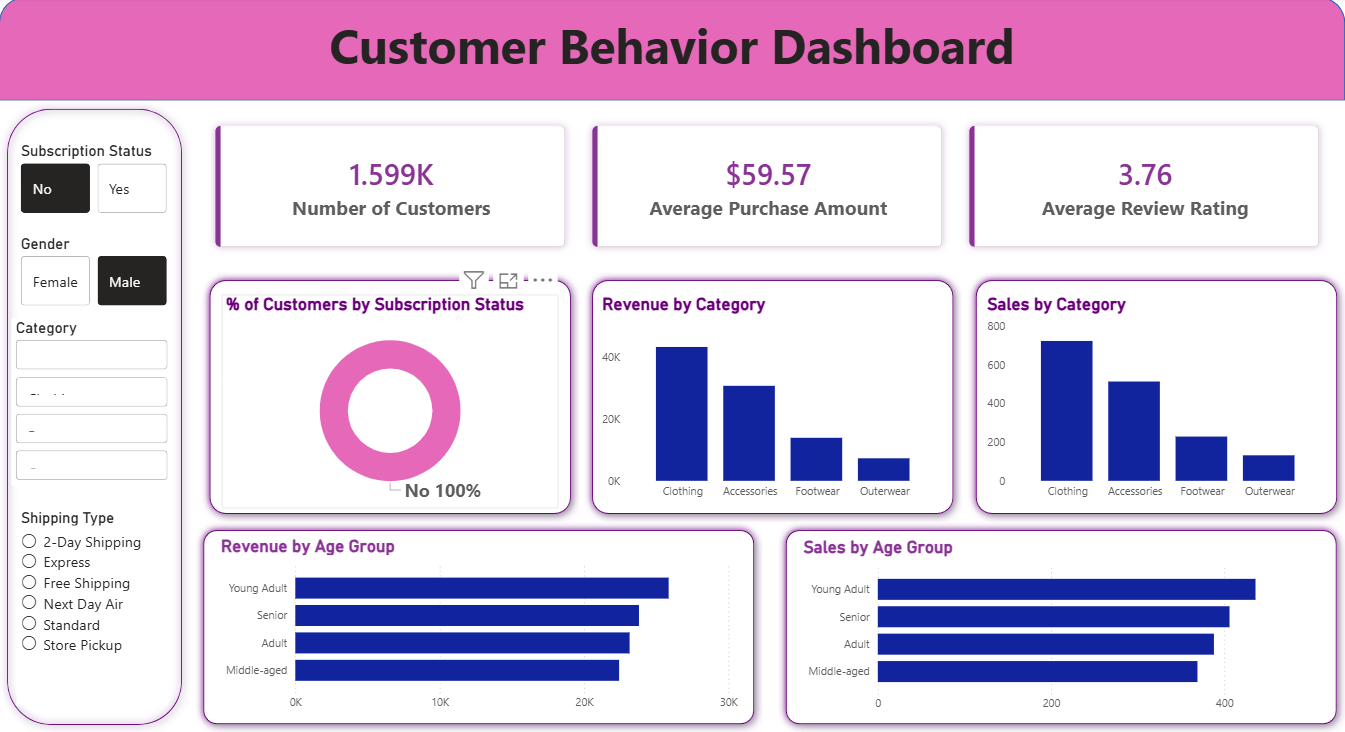

The dashboard page shown, as its layout file describes it:
{"tool":"powerbi","page":{"name":"Page 1","canvas":[1500,820],"ordinal":0},"visuals":[{"type":"cardVisual","fields":{"Data":["public customer.Number of Customers","public customer.Average Purchase Amount","public customer.Average Review Rating"]},"box":[212.9,115.3,1286.5,191.6],"z":2000},{"type":"shape","box":[218.3,585.6,631.7,234.2],"z":2500,"group":"g1"},{"type":"shape","box":[0,0,1499.9,115.6],"z":3000},{"type":"textbox","box":[0,12.4,1499.4,102.9],"z":4000},{"type":"shape","box":[225.4,307,420.5,278.6],"z":5000},{"type":"donutChart","title":"% of Customers by Subscription Status","fields":{"Category":["public customer.subscription_status"],"Y":["CountNonNull(public customer.customer_id)"]},"box":[248.4,331.8,376.2,237.8],"z":6000},{"type":"shape","box":[1078.9,307,420.5,278.6],"z":7000},{"type":"shape","box":[652.1,307,420.5,278.6],"z":8000},{"type":"clusteredColumnChart","title":"Revenue by Category","fields":{"Y":["Sum(public customer.purchase_amount)"],"Category":["public customer.category"]},"box":[667.2,331.8,385.1,237.8],"z":9000},{"type":"clusteredColumnChart","title":"Sales by Category","fields":{"Y":["CountNonNull(public customer.customer_id)"],"Category":["public customer.category"]},"box":[1096.6,331.8,385.1,237.8],"z":10000},{"type":"shape","box":[0,115.3,212.9,704.5],"z":11000},{"type":"advancedSlicerVisual","fields":{"Values":["public customer.subscription_status"]},"box":[19.5,161.5,173.9,85.2],"z":12000},{"type":"advancedSlicerVisual","fields":{"Values":["public customer.gender"]},"box":[19.5,264.4,173.9,85.2],"z":13000},{"type":"advancedSlicerVisual","fields":{"Values":["public customer.category"]},"box":[15.3,352.3,178.3,232.6],"z":14000},{"type":"listSlicer","fields":{"Values":["public customer.shipping_type"]},"box":[19.5,601.6,168.5,217.3],"z":15000},{"type":"shape","box":[867.7,585.6,631.7,234.2],"z":16000},{"type":"clusteredBarChart","title":"Sales by Age Group","fields":{"Y":["CountNonNull(public customer.customer_id)"],"Category":["public customer.age_group"]},"box":[890.8,601.5,585.6,204.1],"z":17000},{"type":"clusteredBarChart","title":"Revenue by Age Group","fields":{"Y":["Sum(public customer.purchase_amount)"],"Category":["public customer.age_group"]},"box":[241.4,601.6,585.6,204.1],"z":17500,"group":"g1"},{"type":"group","id":"g1","title":"Group 1","box":[218.3,585.6,631.7,234.2],"z":17501}]}

Visuals, with their boxes in screenshot pixels (x1, y1, x2, y2), scaled from the page's 1500x820 canvas onto the 1345x732 screenshot:
cardVisual - public customer.Number of Customers x public customer.Average Purchase Amount: pyautogui.locateOnScreen(191, 103, 1344, 274)
shape: pyautogui.locateOnScreen(196, 523, 762, 731)
shape: pyautogui.locateOnScreen(0, 0, 1344, 103)
textbox: pyautogui.locateOnScreen(0, 11, 1344, 103)
shape: pyautogui.locateOnScreen(202, 274, 579, 523)
"% of Customers by Subscription Status" donutChart: pyautogui.locateOnScreen(223, 296, 560, 508)
shape: pyautogui.locateOnScreen(967, 274, 1344, 523)
shape: pyautogui.locateOnScreen(585, 274, 962, 523)
"Revenue by Category" clusteredColumnChart: pyautogui.locateOnScreen(598, 296, 944, 508)
"Sales by Category" clusteredColumnChart: pyautogui.locateOnScreen(983, 296, 1329, 508)
shape: pyautogui.locateOnScreen(0, 103, 191, 731)
advancedSlicerVisual - public customer.subscription_status: pyautogui.locateOnScreen(17, 144, 173, 220)
advancedSlicerVisual - public customer.gender: pyautogui.locateOnScreen(17, 236, 173, 312)
advancedSlicerVisual - public customer.category: pyautogui.locateOnScreen(14, 314, 174, 522)
listSlicer - public customer.shipping_type: pyautogui.locateOnScreen(17, 537, 169, 731)
shape: pyautogui.locateOnScreen(778, 523, 1344, 731)
"Sales by Age Group" clusteredBarChart: pyautogui.locateOnScreen(799, 537, 1324, 719)
"Revenue by Age Group" clusteredBarChart: pyautogui.locateOnScreen(216, 537, 742, 719)
"Group 1" group: pyautogui.locateOnScreen(196, 523, 762, 731)
